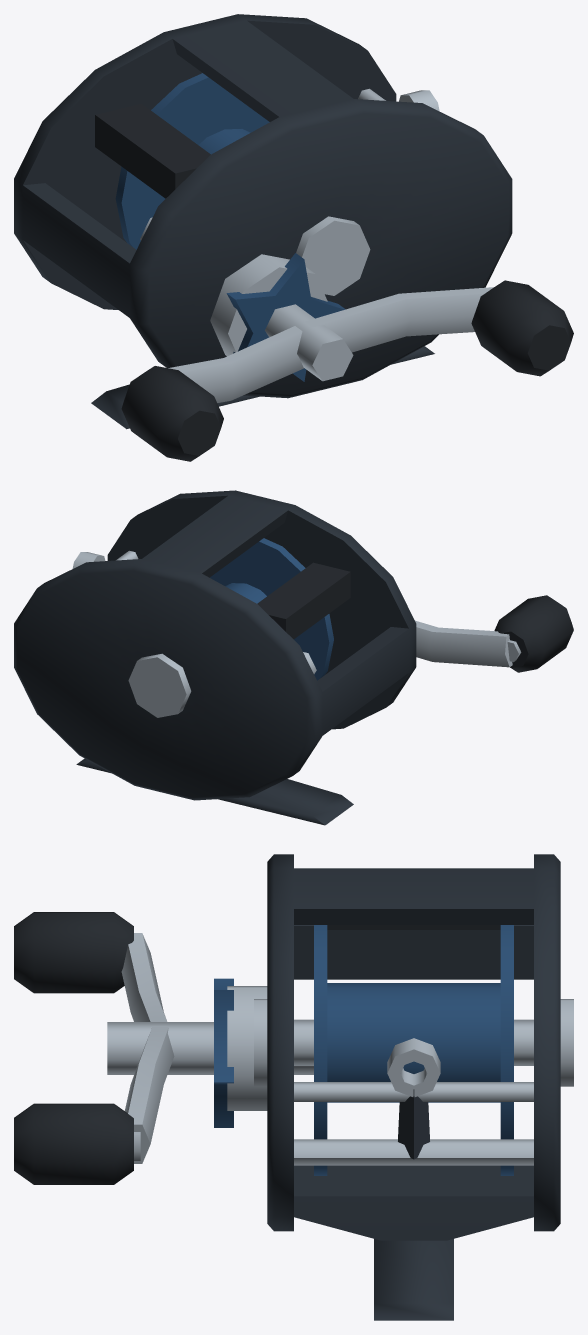
The model's file is reel_02_low_profile.glb.
3 renders of one model, top to bottom at view 1: azimuth 30°, elevation 25°; view 2: azimuth 150°, elevation 25°; view 3: azimuth 270°, elevation 25°, orthographic. The views are drawn at different scales.
Parts seen in each view (by area): view 1: 02_low_profile__Continuous_frame_and_foot, 02_low_profile__Crank_casting, 02_low_profile__Empty_spool, 02_low_profile__Grip_1, 02_low_profile__Grip_0, 02_low_profile__Clutch_thumb_bar, 02_low_profile__Spool_bearing_seats, 02_low_profile__Star_drag_adjuster, 02_low_profile__Drive_bearing_boss, 02_low_profile__Crank_drive_shaft; view 2: 02_low_profile__Continuous_frame_and_foot, 02_low_profile__Empty_spool, 02_low_profile__Clutch_thumb_bar, 02_low_profile__Grip_0, 02_low_profile__Crank_casting, 02_low_profile__Spool_bearing_seats; view 3: 02_low_profile__Continuous_frame_and_foot, 02_low_profile__Empty_spool, 02_low_profile__Levelwind_support_rails, 02_low_profile__Grip_1, 02_low_profile__Grip_0, 02_low_profile__Crank_casting, 02_low_profile__Crank_drive_shaft, 02_low_profile__Lineguide_and_slider, 02_low_profile__Drive_bearing_boss, 02_low_profile__Star_drag_adjuster, 02_low_profile__Spool_bearing_seats, 02_low_profile__Spool_support_axle (+1 smaller).
Boxes of the visible parts, x1,y1,x2,y2 form: 02_low_profile__Continuous_frame_and_foot: (14,14,512,429); 02_low_profile__Crank_casting: (168,287,493,402); 02_low_profile__Empty_spool: (115,73,269,249); 02_low_profile__Grip_1: (471,280,573,376); 02_low_profile__Grip_0: (121,366,223,461); 02_low_profile__Clutch_thumb_bar: (95,103,210,198); 02_low_profile__Spool_bearing_seats: (296,216,370,295); 02_low_profile__Star_drag_adjuster: (226,253,345,381); 02_low_profile__Drive_bearing_boss: (210,254,327,356); 02_low_profile__Crank_drive_shaft: (140,217,353,381); 02_low_profile__Continuous_frame_and_foot: (14,490,416,825); 02_low_profile__Empty_spool: (210,538,333,680); 02_low_profile__Clutch_thumb_bar: (257,562,350,639); 02_low_profile__Grip_0: (494,595,573,672); 02_low_profile__Crank_casting: (415,620,512,667); 02_low_profile__Spool_bearing_seats: (128,653,191,717); 02_low_profile__Continuous_frame_and_foot: (267,854,560,1320); 02_low_profile__Empty_spool: (314,925,513,1175); 02_low_profile__Levelwind_support_rails: (294,1082,533,1165); 02_low_profile__Grip_1: (14,1103,133,1184); 02_low_profile__Grip_0: (14,912,133,993); 02_low_profile__Crank_casting: (121,933,174,1163); 02_low_profile__Crank_drive_shaft: (107,1022,313,1074); 02_low_profile__Lineguide_and_slider: (387,1038,440,1159); 02_low_profile__Drive_bearing_boss: (227,986,267,1110); 02_low_profile__Star_drag_adjuster: (214,978,233,1127); 02_low_profile__Spool_bearing_seats: (254,999,573,1086); 02_low_profile__Spool_support_axle: (294,1019,533,1065).
Size of the model in its own units: 0.0898 by 0.0575 by 0.084.
